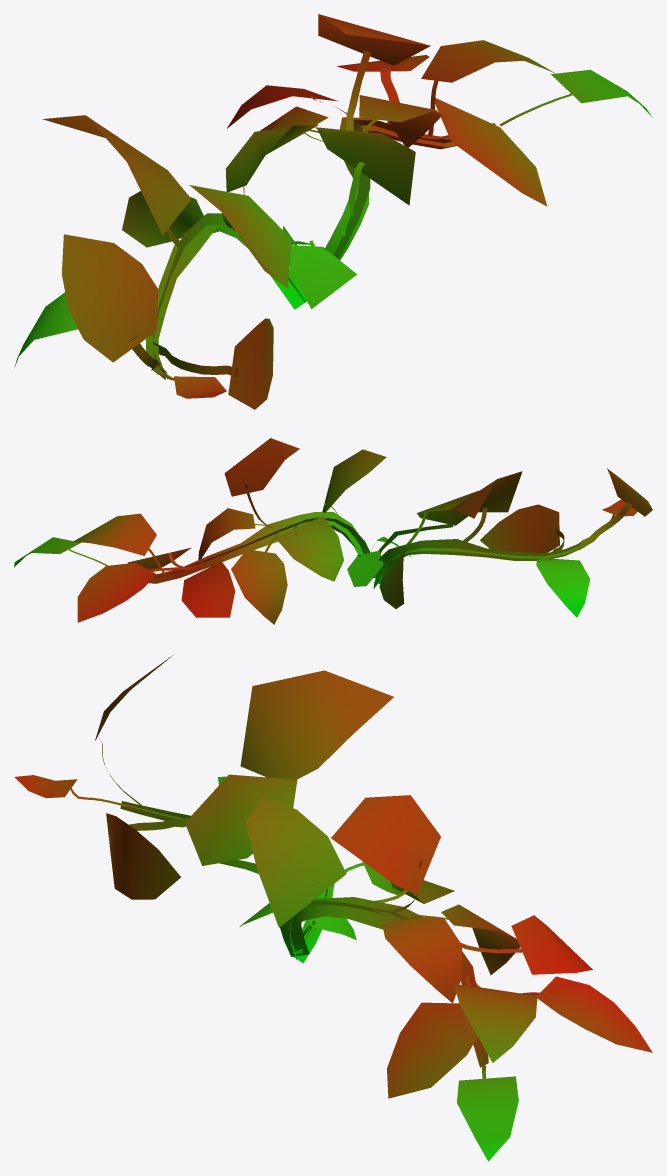
The model's file is Money Plant_LOD2_Var4_uchmfdyia.fbx.
The picture shows the model from 3 angles, top to bottom: view 1: azimuth 30°, elevation 25°; view 2: azimuth 150°, elevation 25°; view 3: azimuth 270°, elevation 25°; orthographic projection. The views are drawn at different scales.
Visible parts, largest first — view 1: _9edd_Var4_LOD2; view 2: _9edd_Var4_LOD2; view 3: _9edd_Var4_LOD2.
Part boxes in pixels (left/top/right/bottom): _9edd_Var4_LOD2: left=14, top=14, right=652, bottom=409; _9edd_Var4_LOD2: left=14, top=438, right=652, bottom=624; _9edd_Var4_LOD2: left=14, top=654, right=652, bottom=1161.
Size of the model in its own units: 37.57 by 10.94 by 29.79.
